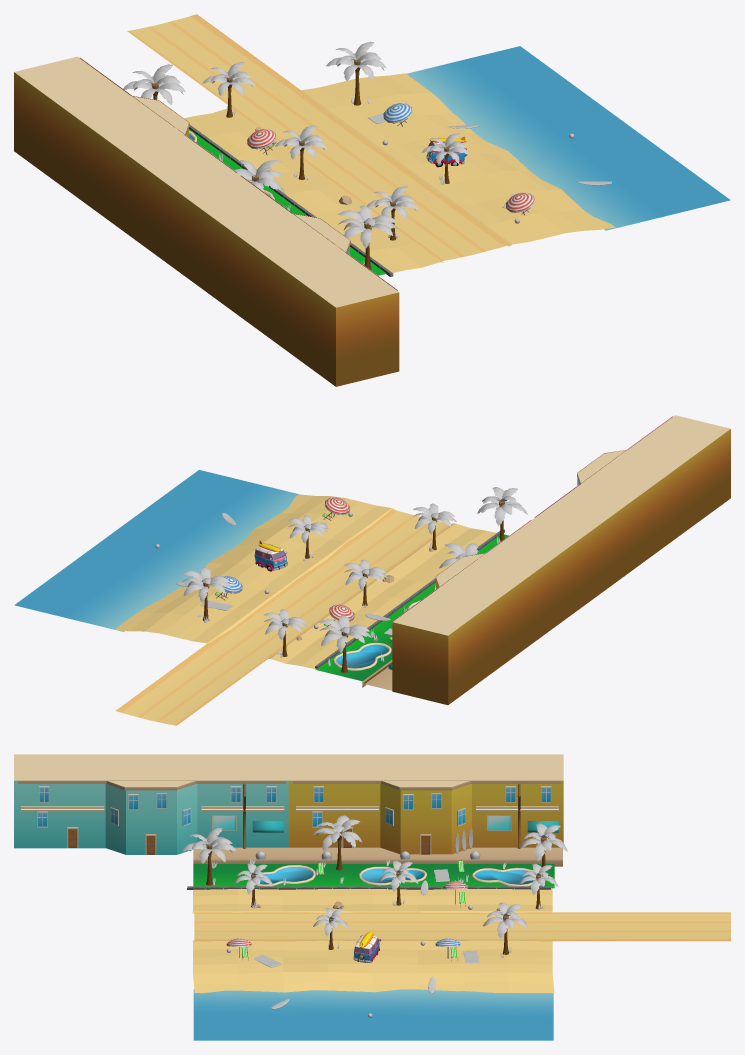
File: Beach Sample.fbx
3 renders of one model, top to bottom at view 1: azimuth 30°, elevation 25°; view 2: azimuth 150°, elevation 25°; view 3: azimuth 270°, elevation 25°, orthographic. The views are drawn at different scales.
Visible parts, largest first — view 1: Cube.163, Plane.004, Plane.005, Cube.290, as_road_module.006, as_road_module.005, as_road_module.004, coconut_tree.003, coconut_tree.005, coconut_tree.004, coconut_tree.008, coconut_tree (+5 smaller); view 2: Cube.290, Plane.005, Plane.004, Cube.163, as_road_module.006, as_road_module.004, as_road_module.005, Plane.006, coconut_tree.004, pool, coconut_tree.005, coconut_tree.003 (+7 smaller); view 3: Plane.004, Cube.163, Cube.290, Plane.005, as_road_module.006, Cube.162, as_road_module.005, as_road_module.004, Plane.006, Cube.126, coconut_tree.003, coconut_tree.002 (+16 smaller).
Part boxes in pixels (x1,y1,x2,y2): Cube.163: (175, 174, 399, 386); Plane.004: (184, 73, 615, 272); Plane.005: (406, 46, 730, 230); Cube.290: (14, 56, 237, 268); as_road_module.006: (127, 14, 300, 107); as_road_module.005: (337, 168, 509, 261); as_road_module.004: (232, 91, 403, 184); coconut_tree.003: (338, 205, 397, 269); coconut_tree.005: (326, 41, 386, 105); coconut_tree.004: (123, 64, 185, 105); coconut_tree.008: (202, 62, 254, 117); coconut_tree: (275, 125, 326, 179); Cube.290: (392, 518, 589, 704); Plane.005: (14, 470, 298, 631); Plane.004: (114, 494, 496, 669); Cube.163: (534, 415, 730, 601); as_road_module.006: (115, 643, 268, 725); as_road_module.004: (208, 577, 359, 658); as_road_module.005: (301, 509, 452, 591); Plane.006: (315, 534, 508, 681); coconut_tree.004: (318, 615, 371, 672); pool: (333, 642, 391, 670); coconut_tree.005: (181, 567, 231, 620); coconut_tree.003: (477, 487, 527, 541); Plane.004: (192, 888, 554, 993); Cube.163: (14, 754, 288, 854); Cube.290: (288, 754, 563, 854); Plane.005: (193, 989, 553, 1040); as_road_module.006: (552, 912, 730, 941); Cube.162: (193, 847, 562, 866); as_road_module.005: (194, 912, 373, 941); as_road_module.004: (373, 912, 551, 941); Plane.006: (193, 864, 554, 888); Cube.126: (187, 886, 550, 889); coconut_tree.003: (182, 827, 236, 885); coconut_tree.002: (312, 815, 362, 870).
Bounding box in the file's own units: 7368 × 1326 × 10713.
